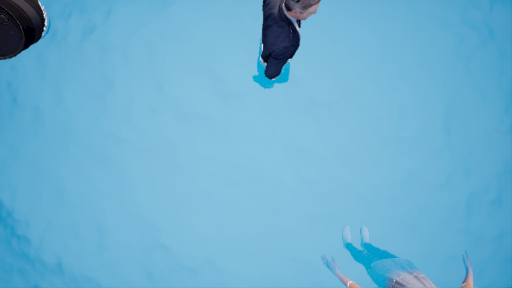person: (255, 1, 318, 100)
